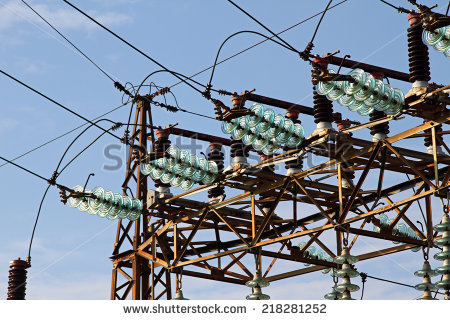isolator: (315, 68, 404, 116), (222, 103, 304, 154), (140, 145, 219, 189), (67, 186, 141, 221), (372, 215, 423, 252), (297, 242, 341, 278), (434, 222, 450, 290), (333, 255, 360, 293), (421, 23, 450, 58), (414, 268, 438, 300), (245, 279, 271, 299)
